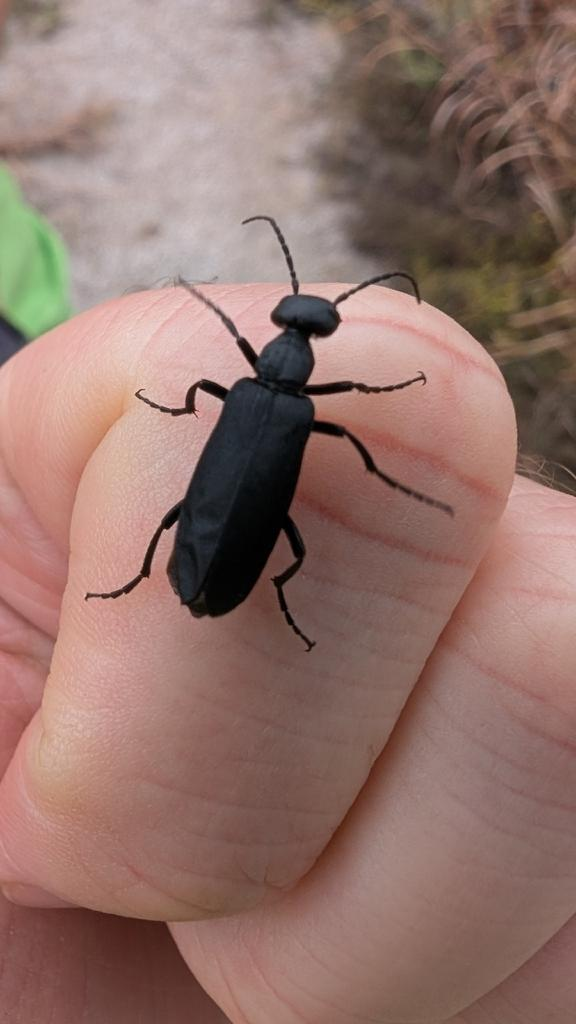blister_beetle: (48, 156, 482, 703)
